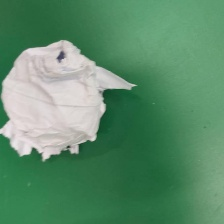Paper: (0, 39, 137, 162)
